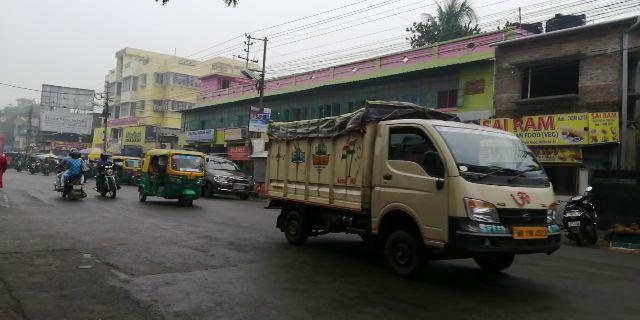Autorickshaw: (144, 150, 208, 207)
Minitruck: (257, 115, 566, 268)
Motorbike: (57, 148, 88, 200), (95, 147, 123, 198)
